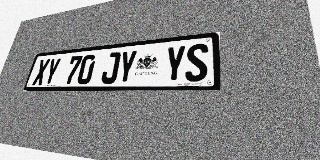0: (76, 54, 96, 84)
7: (63, 55, 83, 85)
J: (100, 52, 121, 84)
S: (185, 43, 208, 82)
X: (32, 59, 50, 85)
Y: (163, 45, 186, 82), (116, 50, 138, 83), (42, 58, 62, 85)
